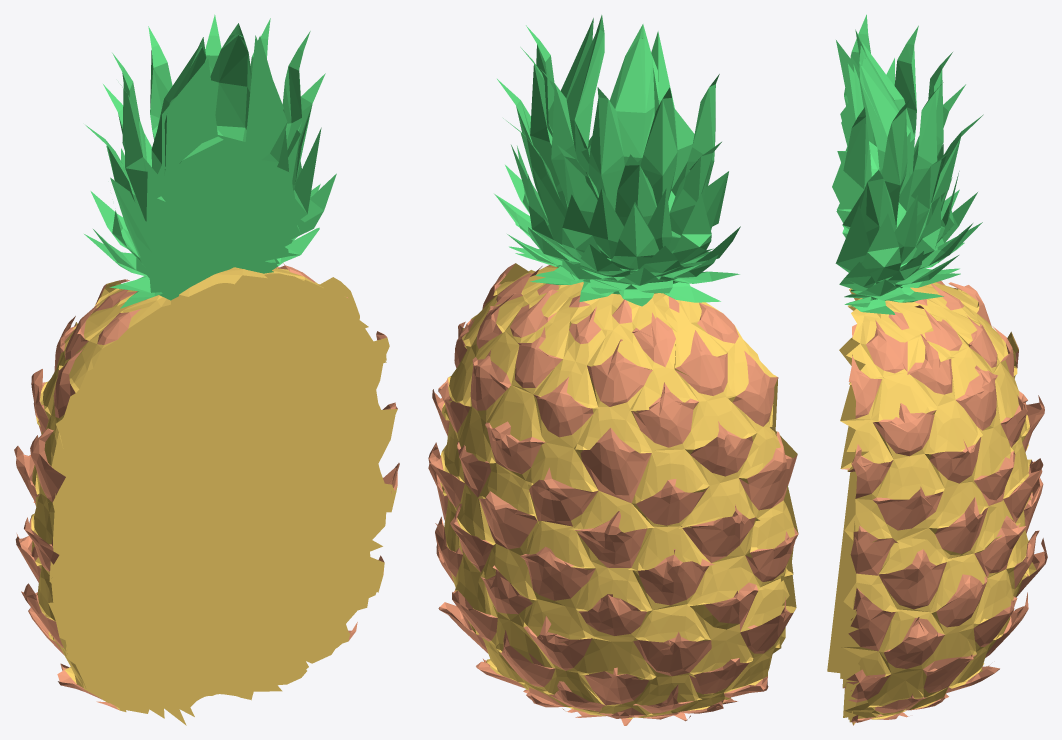
File: pineapplePie.fbx
The picture shows the model from 3 angles, left to right: view 1: azimuth 30°, elevation 25°; view 2: azimuth 150°, elevation 25°; view 3: azimuth 270°, elevation 25°; orthographic projection. The views are drawn at different scales.
Parts seen in each view (by area): view 1: Pineapple; view 2: Pineapple; view 3: Pineapple.
Part boxes in pixels (x1,y1,x2,y2): Pineapple: (14, 14, 399, 725); Pineapple: (428, 15, 798, 725); Pineapple: (827, 14, 1047, 725).
Bounding box in the file's own units: 119 × 212 × 64.11.
